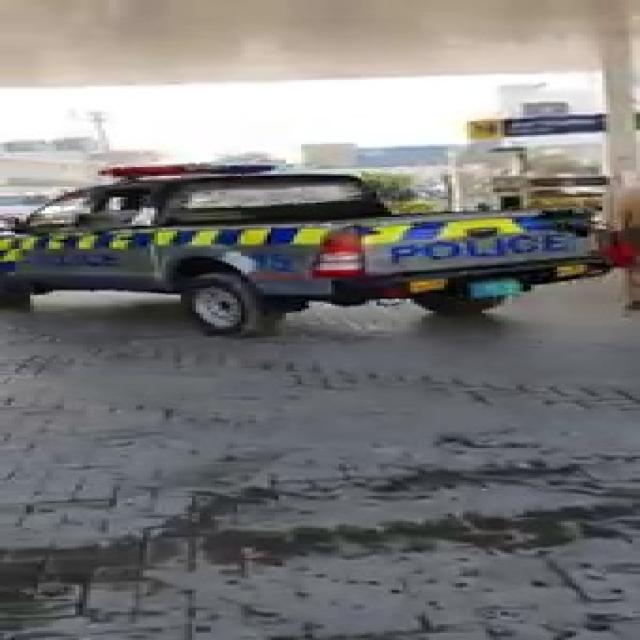police: (14, 141, 553, 327)
